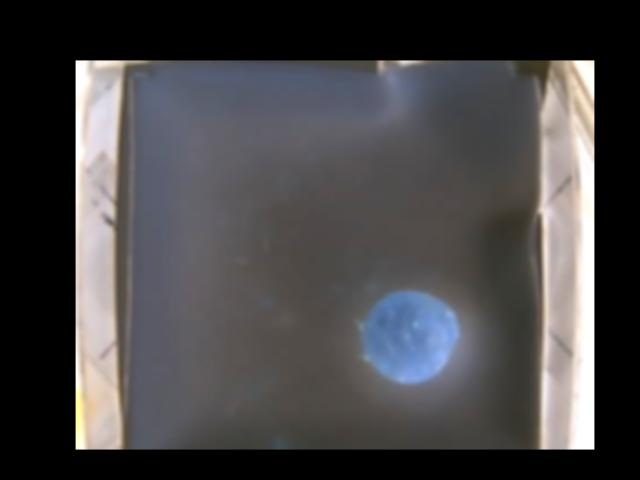Potato: (359, 288, 456, 384)
